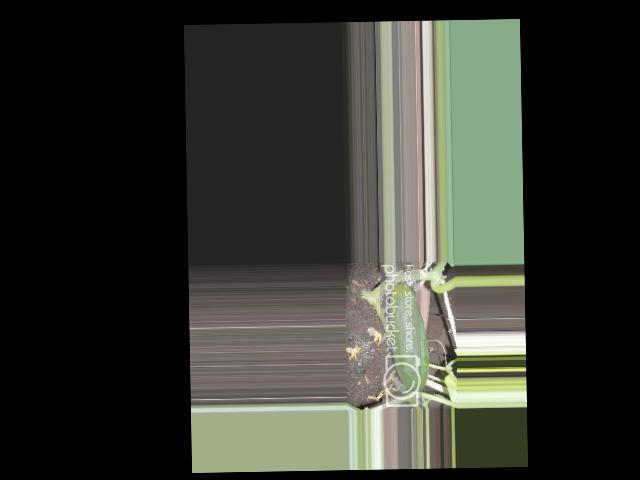cucumber: (387, 284, 428, 390)
